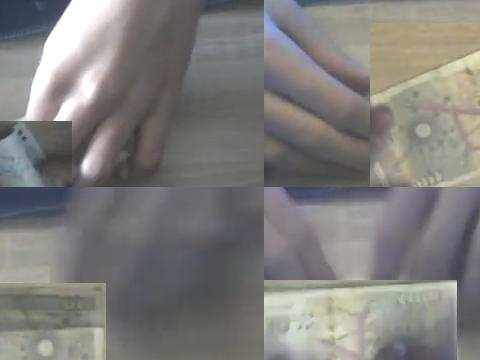10leva: (264, 280, 457, 360), (370, 48, 480, 187), (0, 286, 106, 360)
20leva: (0, 121, 64, 187)
